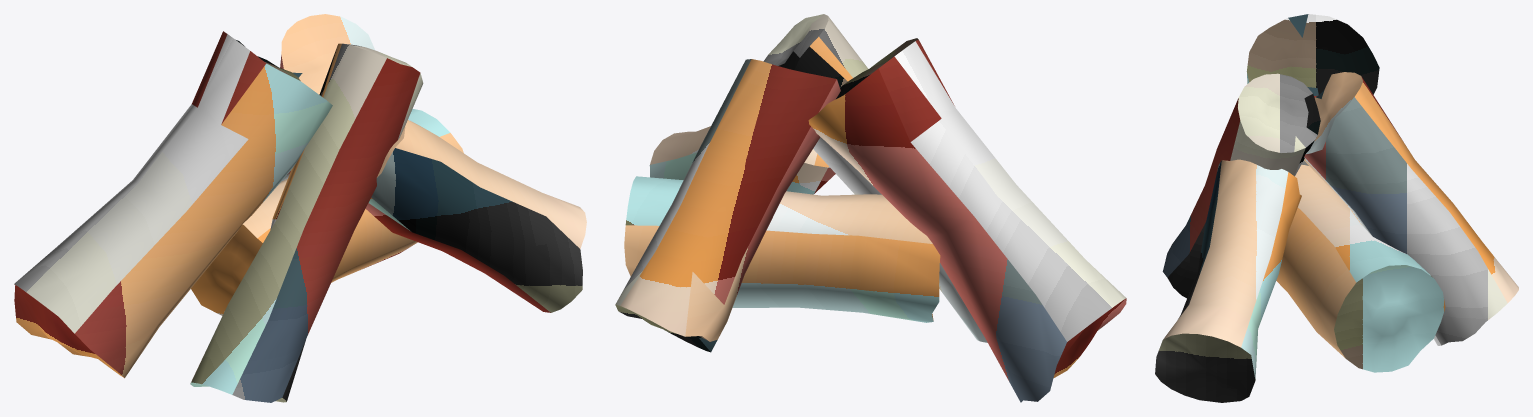
File: CharSkyKid_Prop_AP04Bonfire_01.glb
3 views of the same model, side by side, from view 1: azimuth 30°, elevation 25°; view 2: azimuth 150°, elevation 25°; view 3: azimuth 270°, elevation 25° (orthographic). The views are drawn at different scales.
Parts seen in each view (by area): view 1: CharSkyKid_Prop_AP04Bonfire_01; view 2: CharSkyKid_Prop_AP04Bonfire_01; view 3: CharSkyKid_Prop_AP04Bonfire_01.
Part boxes in pixels (x1,y1,x2,y2): CharSkyKid_Prop_AP04Bonfire_01: [14, 14, 586, 402]; CharSkyKid_Prop_AP04Bonfire_01: [615, 14, 1126, 402]; CharSkyKid_Prop_AP04Bonfire_01: [1155, 14, 1518, 402].
Size of the model in its own units: 9.22 by 5.59 by 6.19.
1 material, 1 textured.
